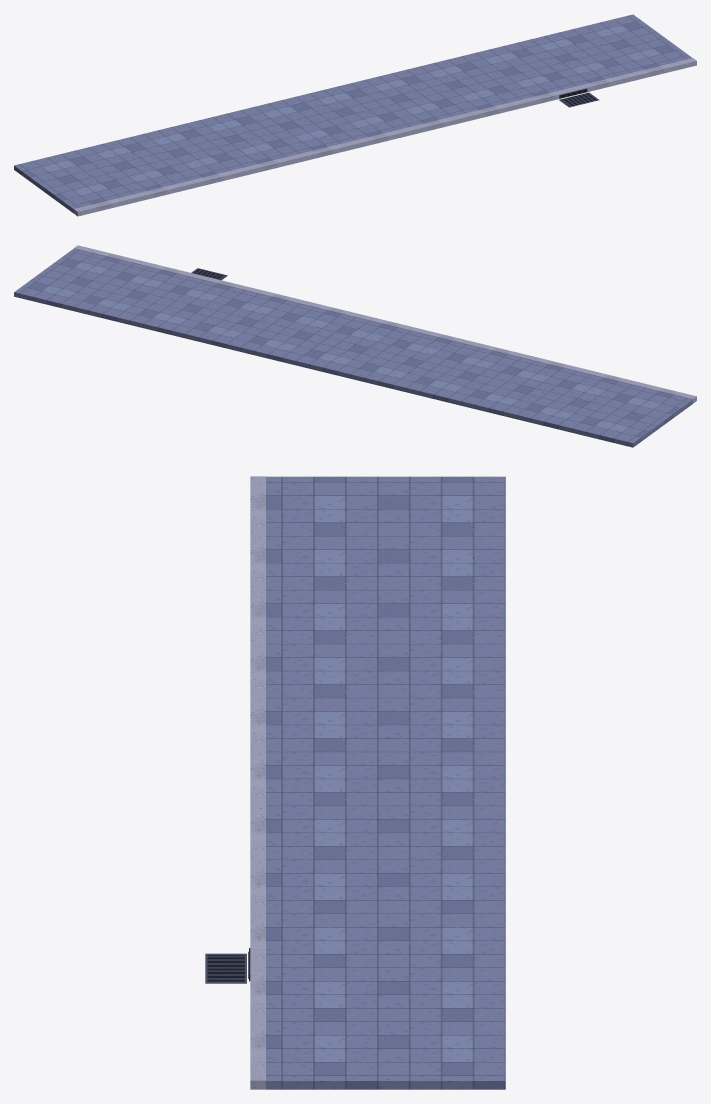
File: sidewalk.glb
3 views of the same model, one above another, from view 1: azimuth 30°, elevation 25°; view 2: azimuth 150°, elevation 25°; view 3: azimuth 270°, elevation 25° (orthographic). The views are drawn at different scales.
Parts seen in each view (by area): view 1: sidewalk; view 2: sidewalk; view 3: sidewalk.
Boxes of the visible parts, x1,y1,x2,y2 form: sidewalk: (14,14,696,216); sidewalk: (14,245,696,447); sidewalk: (205,476,505,1089).
Size of the model in its own units: 22.4 by 0.16 by 4.7.
Materials: 5 (3 with a texture image).
